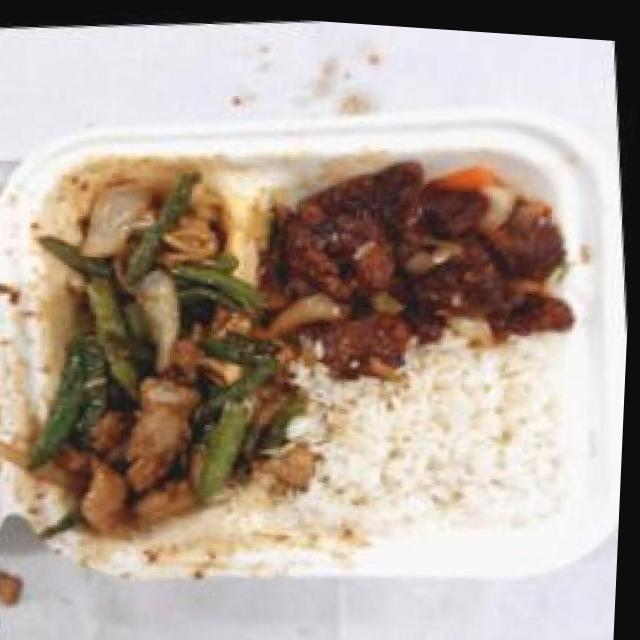Beijing Beef: (273, 127, 589, 371)
String Bean Chicken Breast: (0, 174, 309, 555)
White Steamed Rice: (300, 332, 580, 546)
